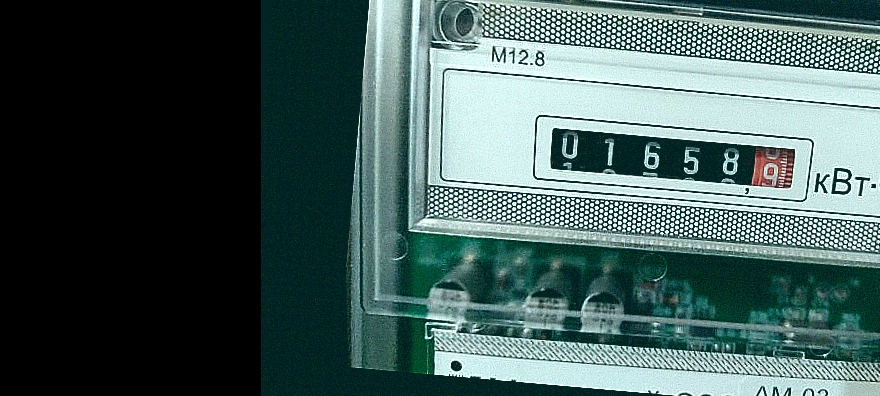0: (558, 127, 582, 161)
1: (602, 135, 617, 167)
5: (681, 143, 703, 176)
6: (642, 138, 664, 171)
8: (720, 144, 742, 178)
9: (760, 160, 780, 187)
screen: (523, 104, 820, 208)
